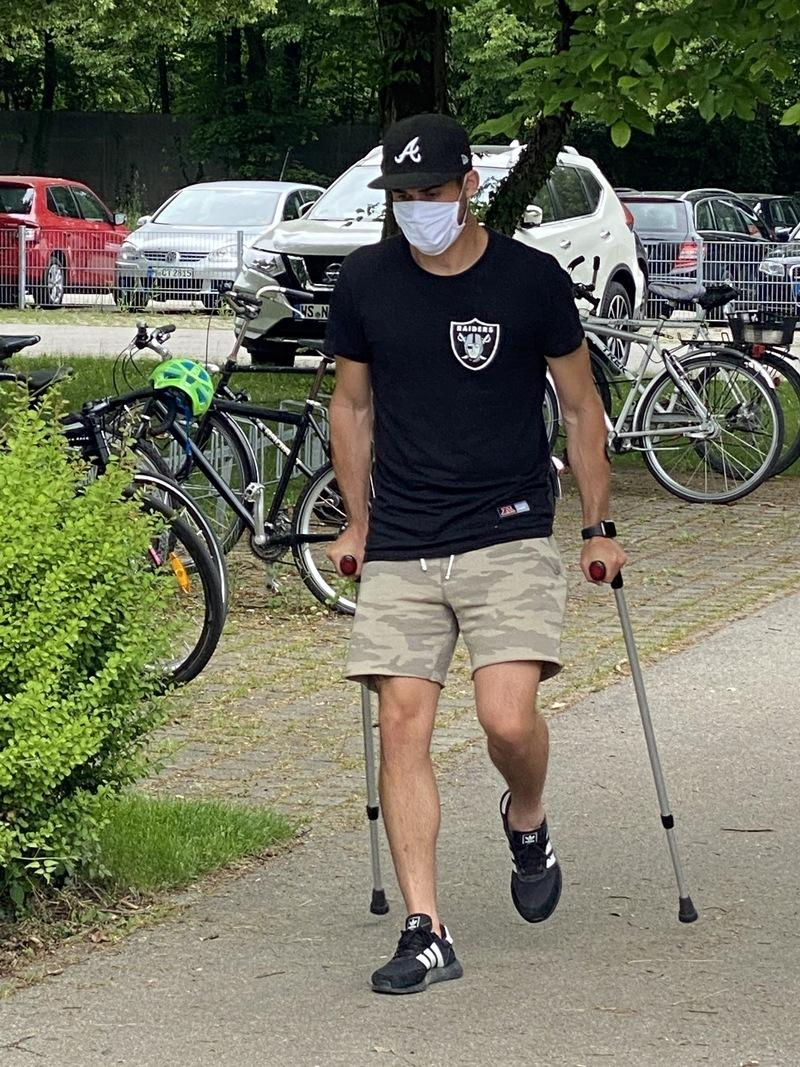crutches: (324, 117, 699, 995)
